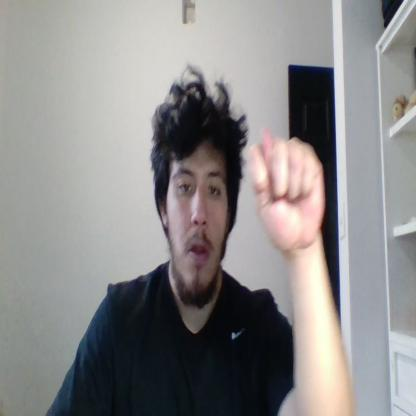T: (249, 127, 324, 249)
